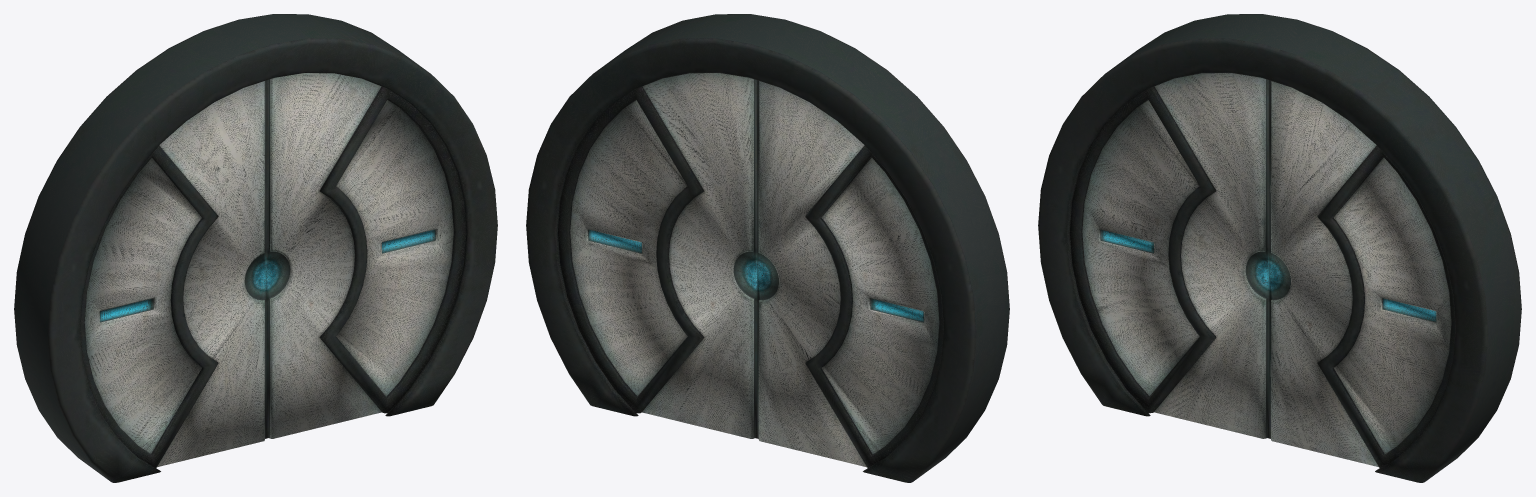
Rendered from door.fbx.
The picture shows the model from 3 angles, left to right: view 1: azimuth 30°, elevation 25°; view 2: azimuth 150°, elevation 25°; view 3: azimuth 330°, elevation 25°; orthographic projection.
Visible parts, largest first — view 1: door_01_lftdoor_reference_reference, door_01_frame_reference_reference, door_01_rtdoor_reference_reference; view 2: door_01_lftdoor_reference_reference, door_01_frame_reference_reference, door_01_rtdoor_reference_reference; view 3: door_01_rtdoor_reference_reference, door_01_frame_reference_reference, door_01_lftdoor_reference_reference.
Part boxes in pixels (x1,y1,x2,y2): door_01_lftdoor_reference_reference: [266, 73, 465, 438]; door_01_frame_reference_reference: [14, 14, 497, 482]; door_01_rtdoor_reference_reference: [80, 80, 266, 467]; door_01_lftdoor_reference_reference: [558, 73, 757, 438]; door_01_frame_reference_reference: [526, 14, 1009, 482]; door_01_rtdoor_reference_reference: [757, 80, 943, 467]; door_01_rtdoor_reference_reference: [1070, 73, 1269, 438]; door_01_frame_reference_reference: [1038, 14, 1521, 482]; door_01_lftdoor_reference_reference: [1269, 80, 1455, 467].
Size of the model in its own units: 324 by 275 by 46.57.
